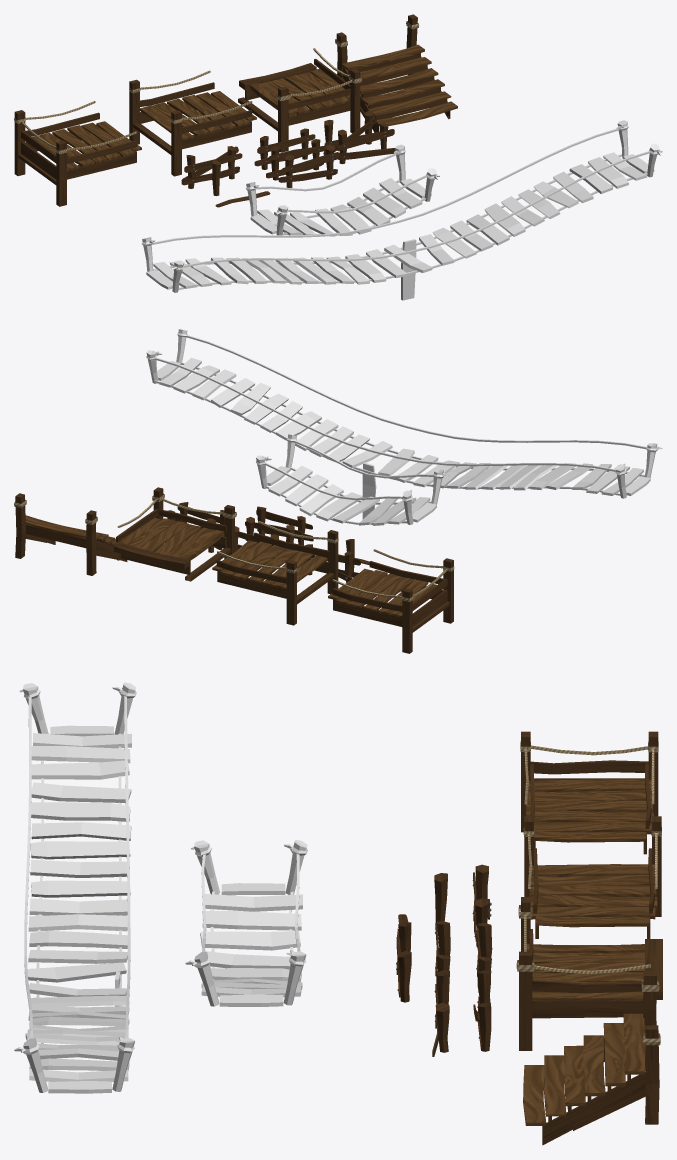
The model's file is wood_builds.fbx.
3 views of the same model, one above another, from view 1: azimuth 30°, elevation 25°; view 2: azimuth 150°, elevation 25°; view 3: azimuth 270°, elevation 25° (orthographic). The views are drawn at different scales.
Parts seen in each view (by area): view 1: bridge_long, pier_corner, pier_stair, pier_end.001, bridge, pier_corner.001, fence_3, fence_4, fence_broken_2, fence_2, fence_1, fence_broken_1; view 2: bridge_long, pier_corner, bridge, pier_end.001, pier_corner.001, pier_stair, fence_3, fence_4, fence_2; view 3: bridge_long, bridge, pier_stair, pier_corner, pier_corner.001, pier_end.001, fence_broken_2, fence_3, fence_broken_1, fence_4, fence_2, fence_1.
Boxes of the visible parts, bbox=[...] form: bridge_long: bbox=[141, 120, 662, 300]; pier_corner: bbox=[14, 101, 141, 206]; pier_stair: bbox=[335, 14, 457, 132]; pier_end.001: bbox=[129, 70, 256, 176]; bridge: bbox=[245, 144, 439, 236]; pier_corner.001: bbox=[238, 48, 361, 152]; fence_3: bbox=[278, 144, 340, 187]; fence_4: bbox=[181, 146, 242, 188]; fence_broken_2: bbox=[336, 122, 395, 164]; fence_2: bbox=[266, 139, 325, 180]; fence_1: bbox=[254, 128, 315, 169]; fence_broken_1: bbox=[323, 110, 379, 155]; bridge_long: bbox=[146, 329, 662, 525]; pier_corner: bbox=[328, 549, 454, 653]; bridge: bbox=[256, 434, 448, 525]; pier_end.001: bbox=[212, 521, 338, 625]; pier_corner.001: bbox=[114, 487, 236, 581]; pier_stair: bbox=[14, 493, 127, 575]; fence_3: bbox=[256, 506, 313, 545]; fence_4: bbox=[299, 544, 360, 582]; fence_2: bbox=[245, 517, 302, 543]; bridge_long: bbox=[14, 682, 136, 1093]; bridge: bbox=[185, 840, 307, 1006]; pier_stair: bbox=[523, 971, 660, 1145]; pier_corner: bbox=[520, 731, 658, 854]; pier_corner.001: bbox=[516, 897, 662, 1050]; pier_end.001: bbox=[523, 816, 661, 938]; fence_broken_2: bbox=[432, 970, 449, 1056]; fence_3: bbox=[396, 922, 411, 1002]; fence_broken_1: bbox=[473, 970, 491, 1051]; fence_4: bbox=[472, 864, 491, 947]; fence_2: bbox=[435, 921, 450, 1001]; fence_1: bbox=[476, 923, 492, 1002].
Size of the model in its own units: 3457 by 2592 by 831.
